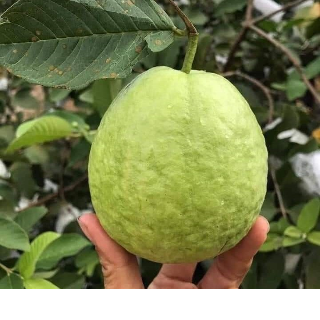oi: (79, 64, 269, 260)
